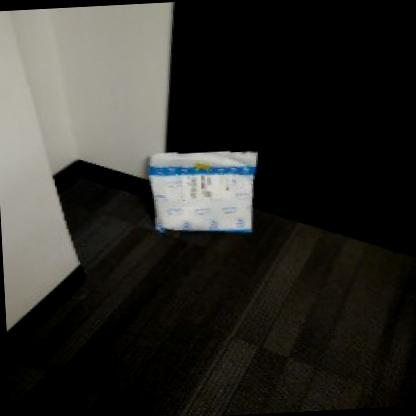plastic_bag: (145, 146, 259, 236)
